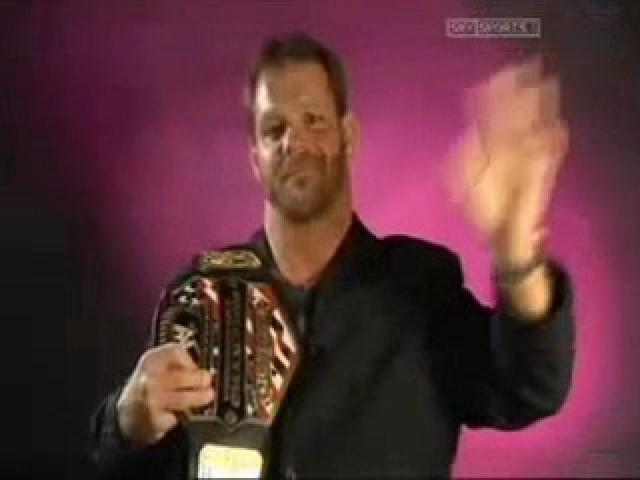L: (88, 31, 573, 478)
